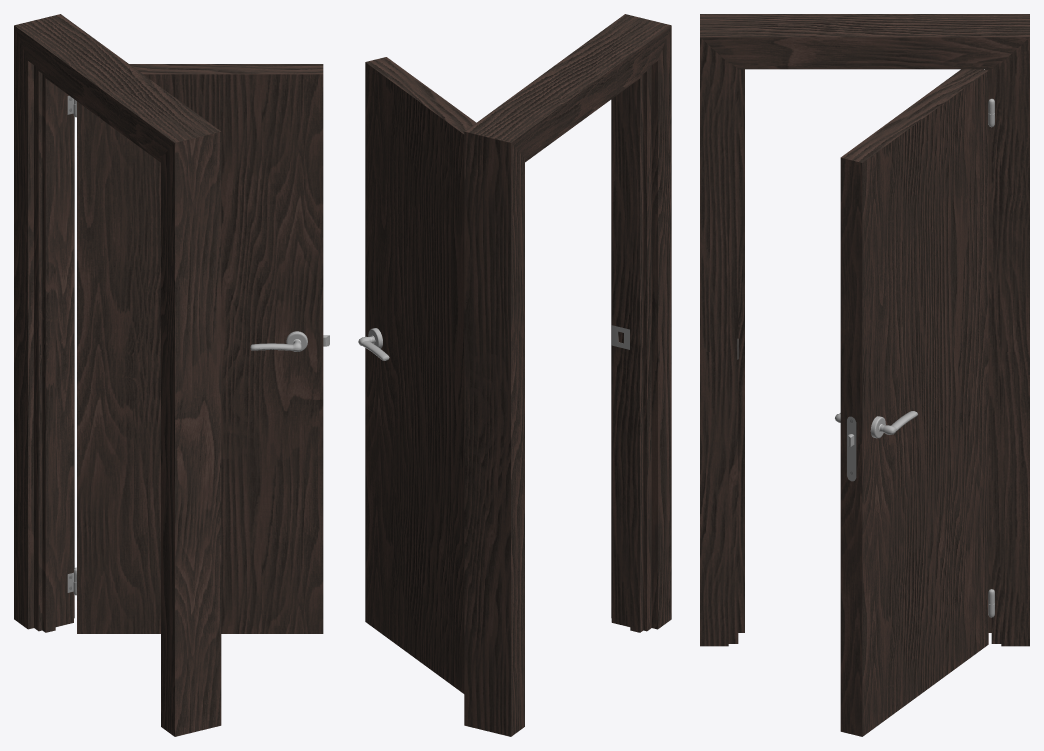
The model's file is door 2 opened.glb.
The picture shows the model from 3 angles, left to right: view 1: azimuth 30°, elevation 25°; view 2: azimuth 150°, elevation 25°; view 3: azimuth 270°, elevation 25°; orthographic projection. The views are drawn at different scales.
Parts seen in each view (by area): view 1: D2-Preview; view 2: D2-Preview; view 3: D2-Preview.
Part boxes in pixels (x1,y1,x2,y2): D2-Preview: (14,14,329,736); D2-Preview: (358,14,671,736); D2-Preview: (700,14,1029,736).
Size of the model in its own units: 2.13 by 5.3 by 2.6.
1 material, 1 textured.
